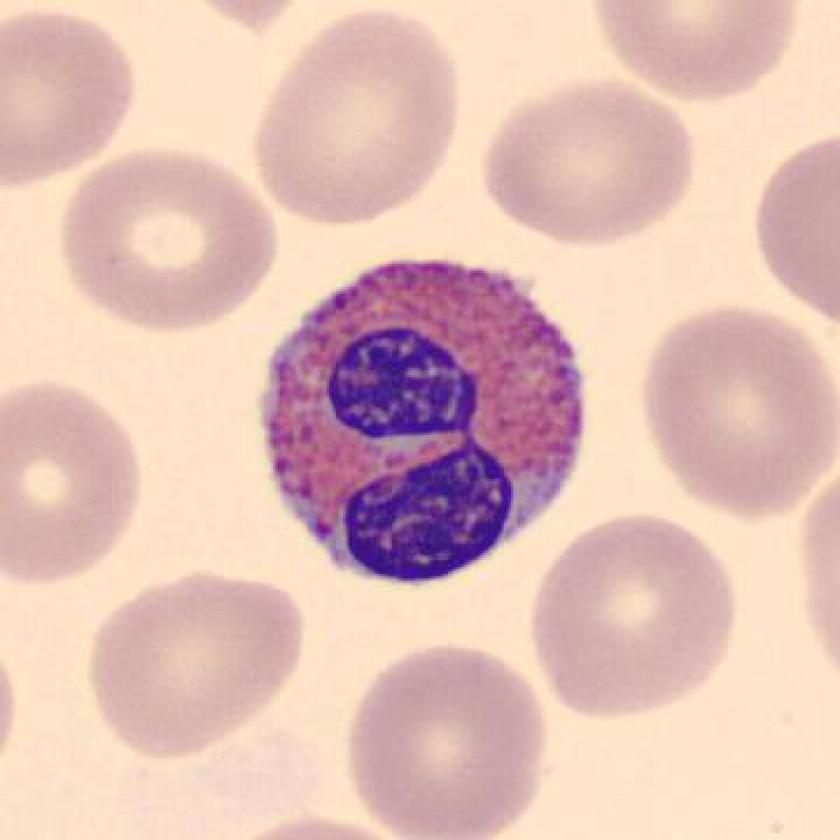eosinophil: (251, 244, 605, 600)
